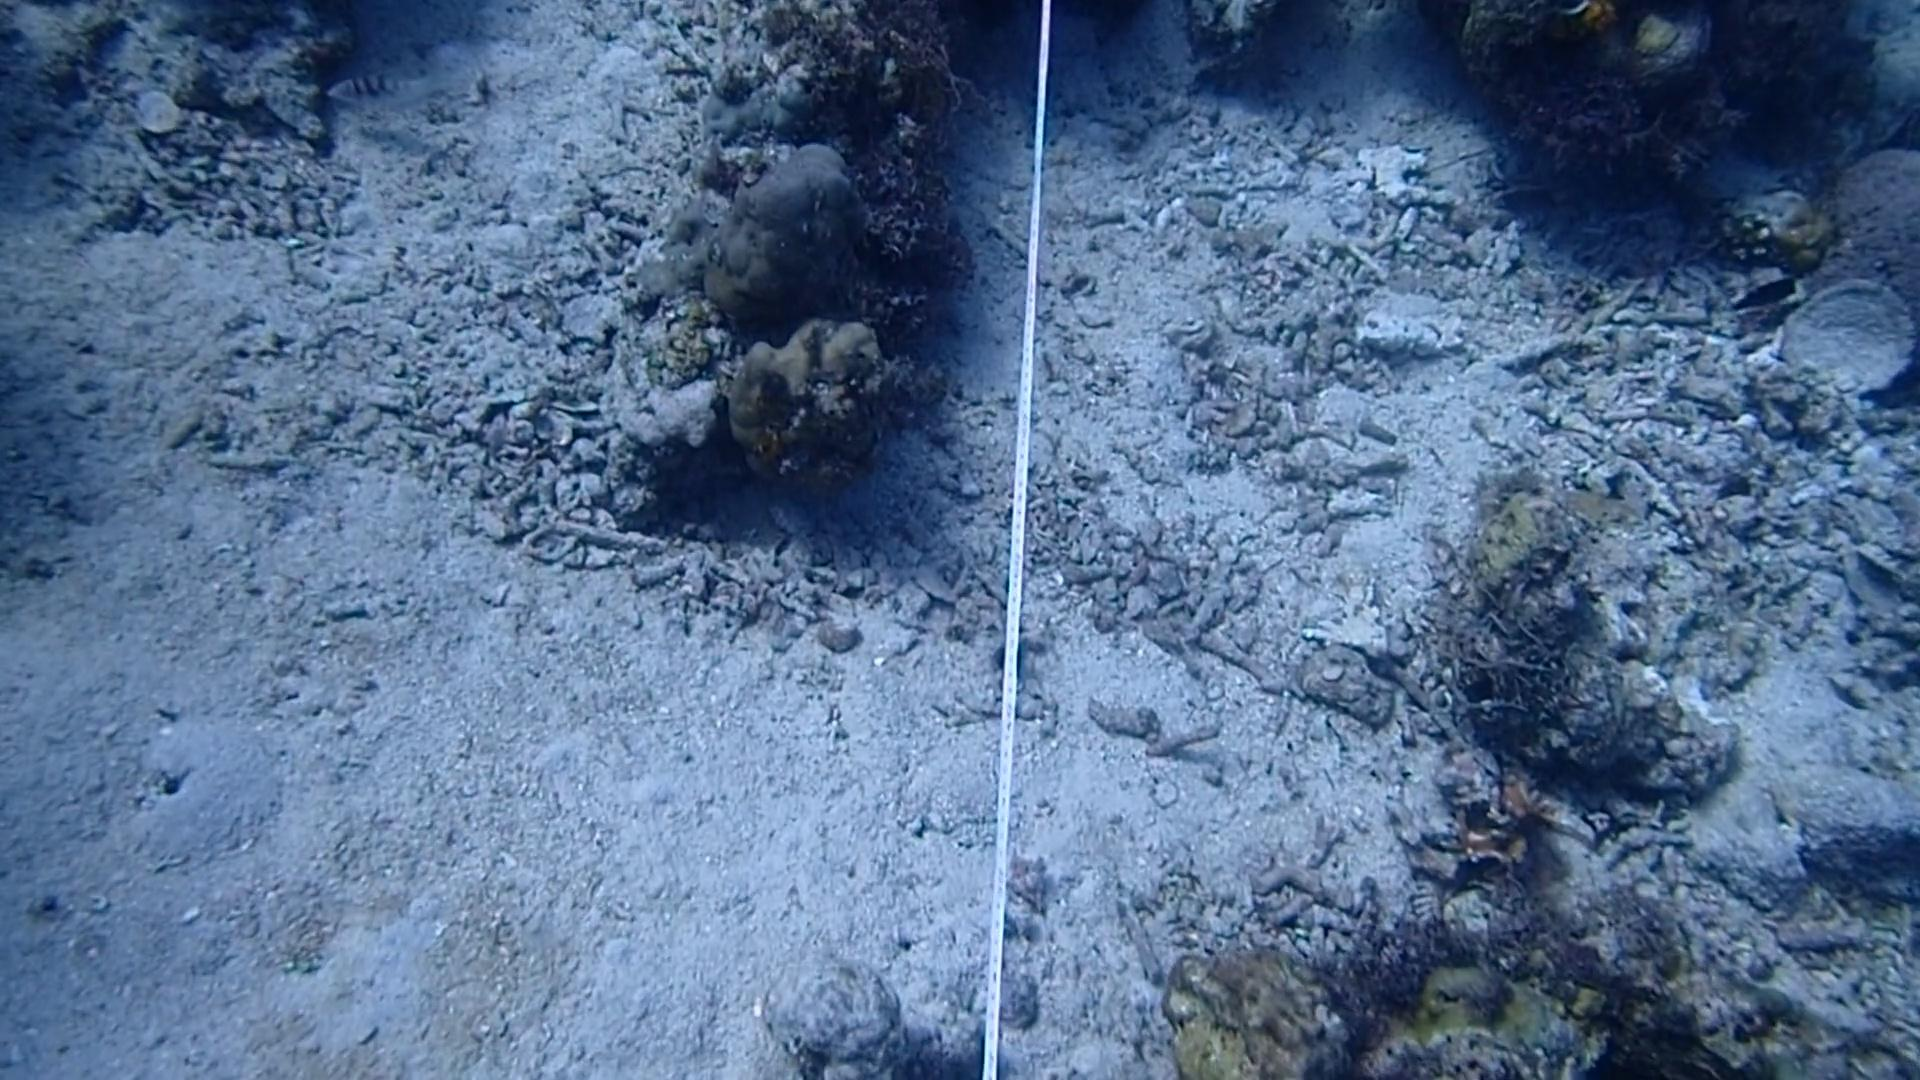Dark Fish: (1720, 265, 1800, 326)
